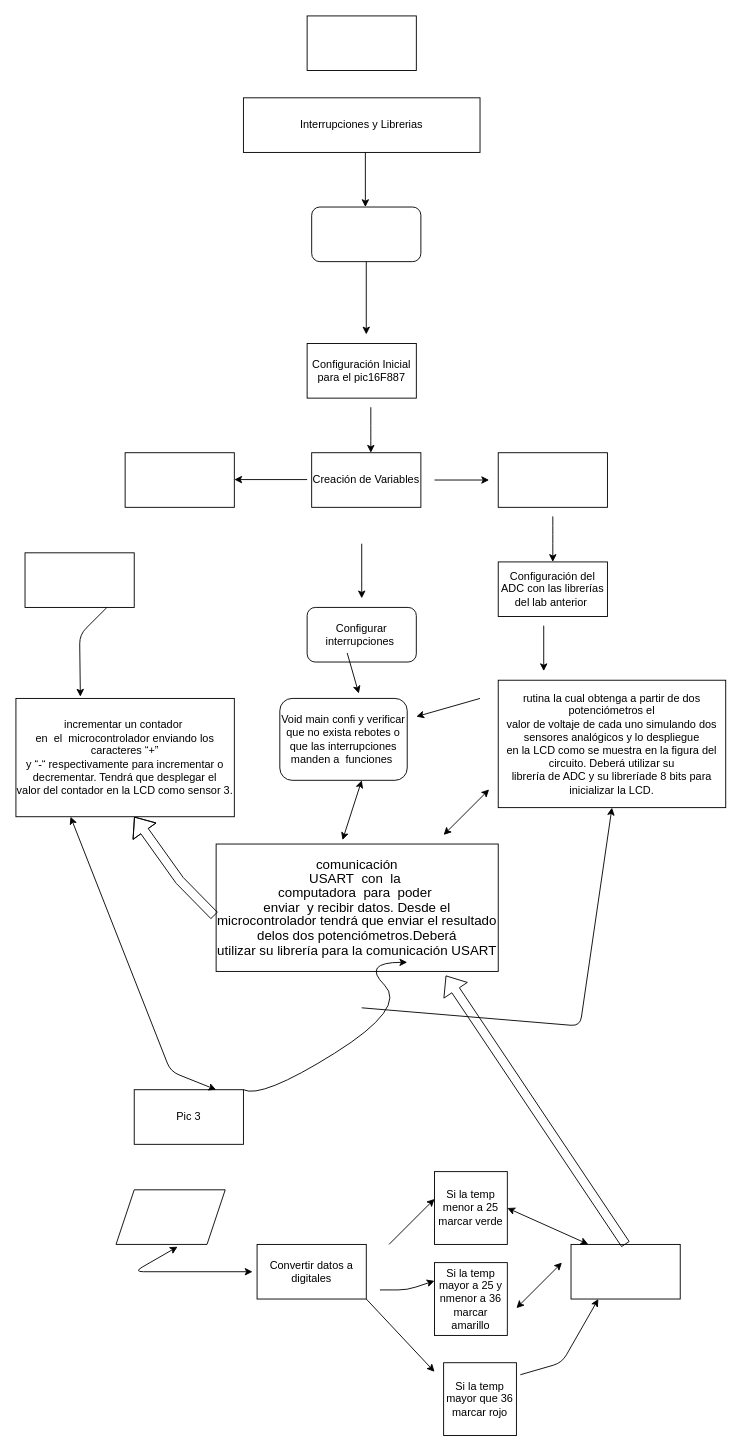
This 742x1451 diagram has some shape labels left out. The box of each missing label's shape, as (x1, y1, x2, y2) in pixels:
Armar el Circuito en Proteuis: (311, 206, 421, 262)
Crear Funciones: (497, 452, 607, 507)
Esclavo 2: (24, 552, 134, 607)
ESCLAVO1: (306, 15, 416, 71)
Recolectar info y enviar a la LCD: (570, 1244, 680, 1299)
Sensor de TEMp enviar datos: (115, 1189, 225, 1244)
Validar Variables: (124, 452, 234, 507)
